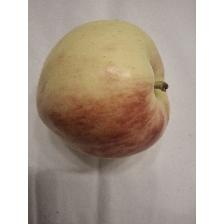Apfel: (34, 18, 172, 160)
